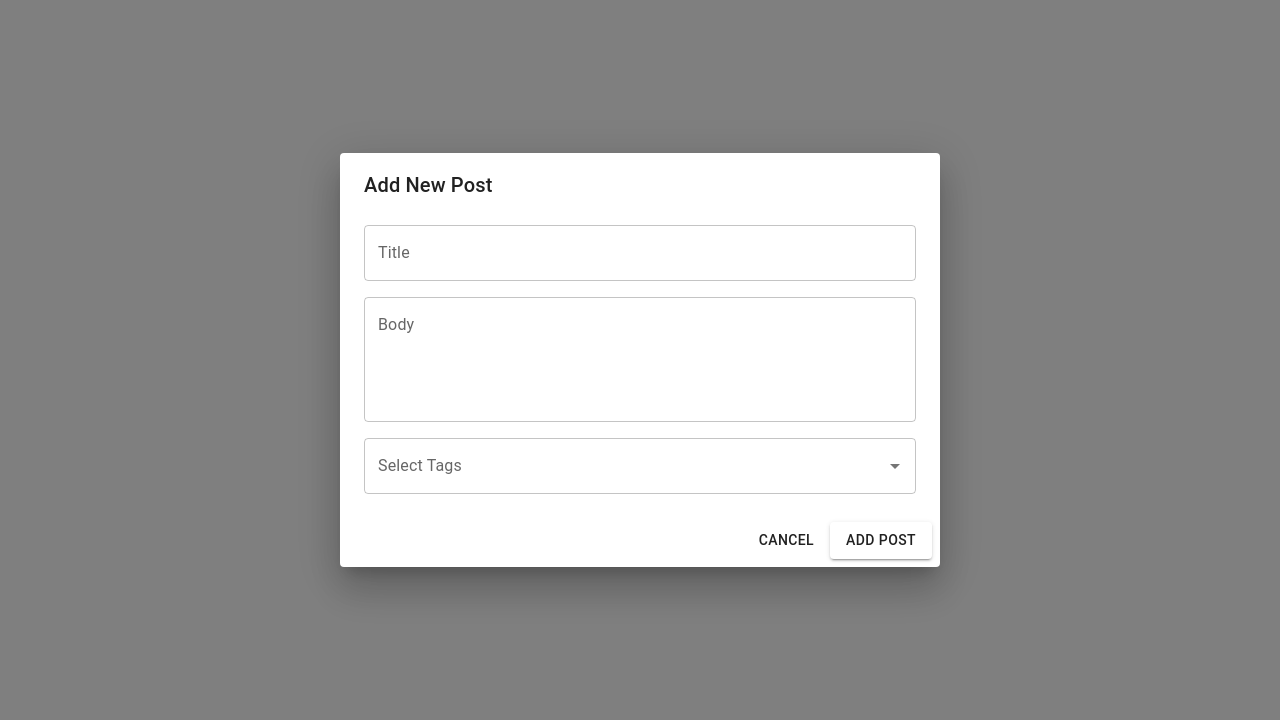
Test: AddPostDialog Component › Rendering › fetches and displays available tags when dialog opens
Click the dropdown at (625, 466), box [373,447,877,485]
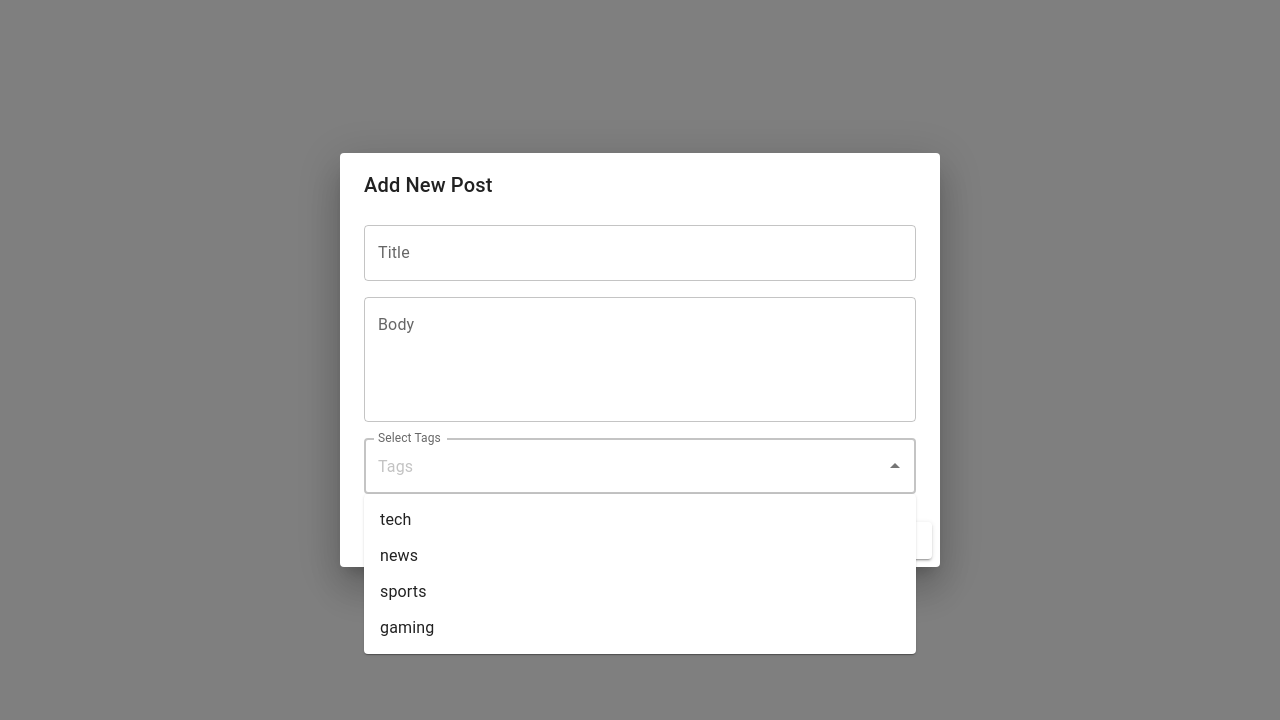
expect the option "tech" is shown: met, box [380,510,412,529]
expect the option "news" is shown: met, box [380,546,418,565]
